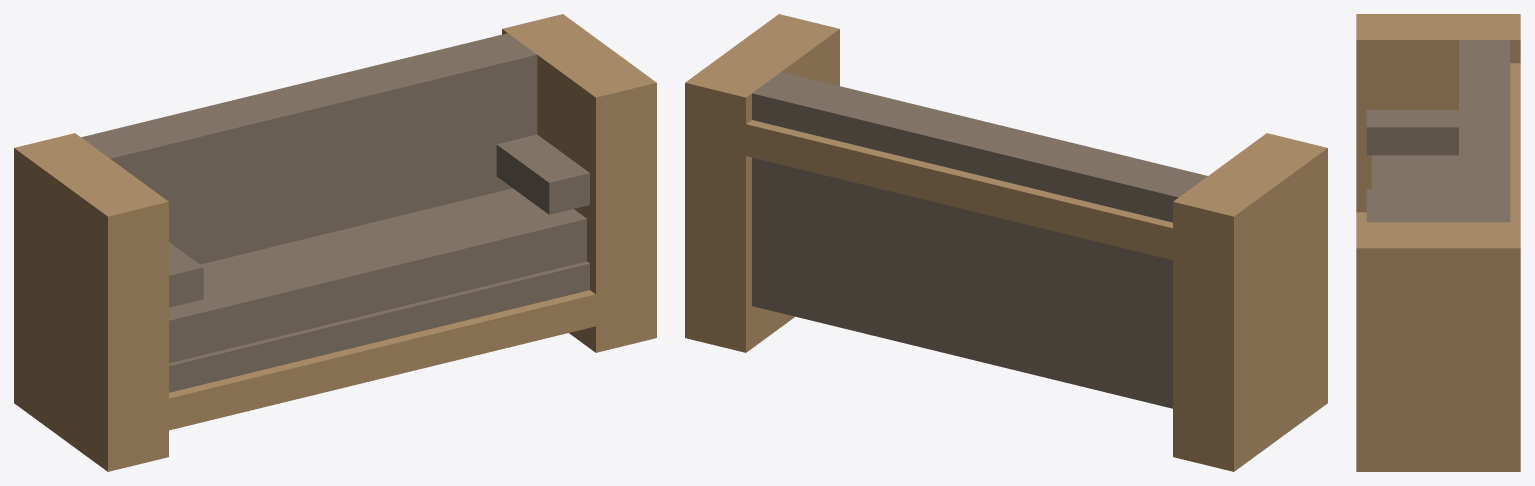
Rendered from sofa_1756454252003.gltf.
3 renders of one model, left to right at view 1: azimuth 30°, elevation 25°; view 2: azimuth 150°, elevation 25°; view 3: azimuth 270°, elevation 25°, orthographic. The views are drawn at different scales.
Size of the model in its own units: 2.7 by 1.2 by 0.8.
